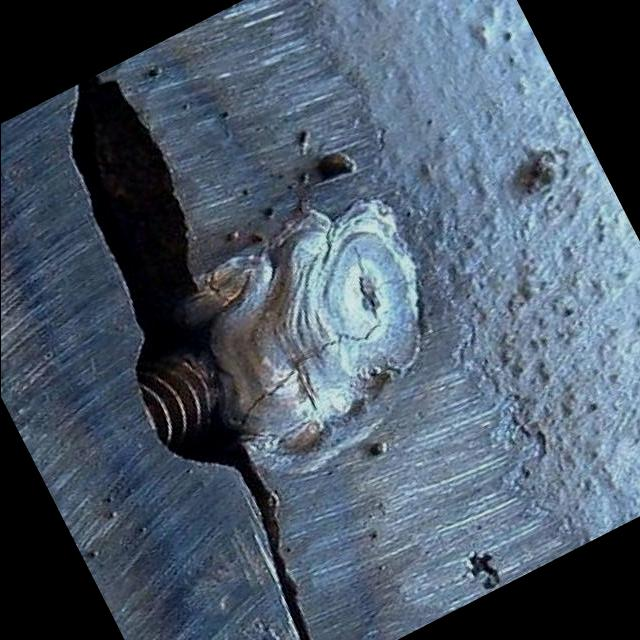defect: (232, 248, 425, 429)
